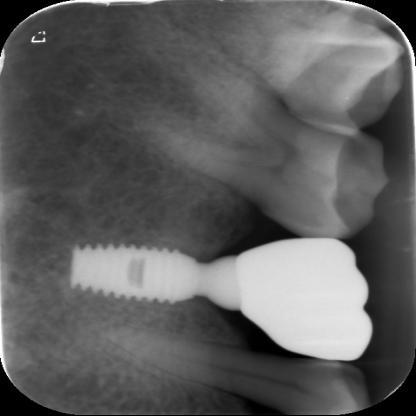Bicon: (58, 229, 254, 320)
